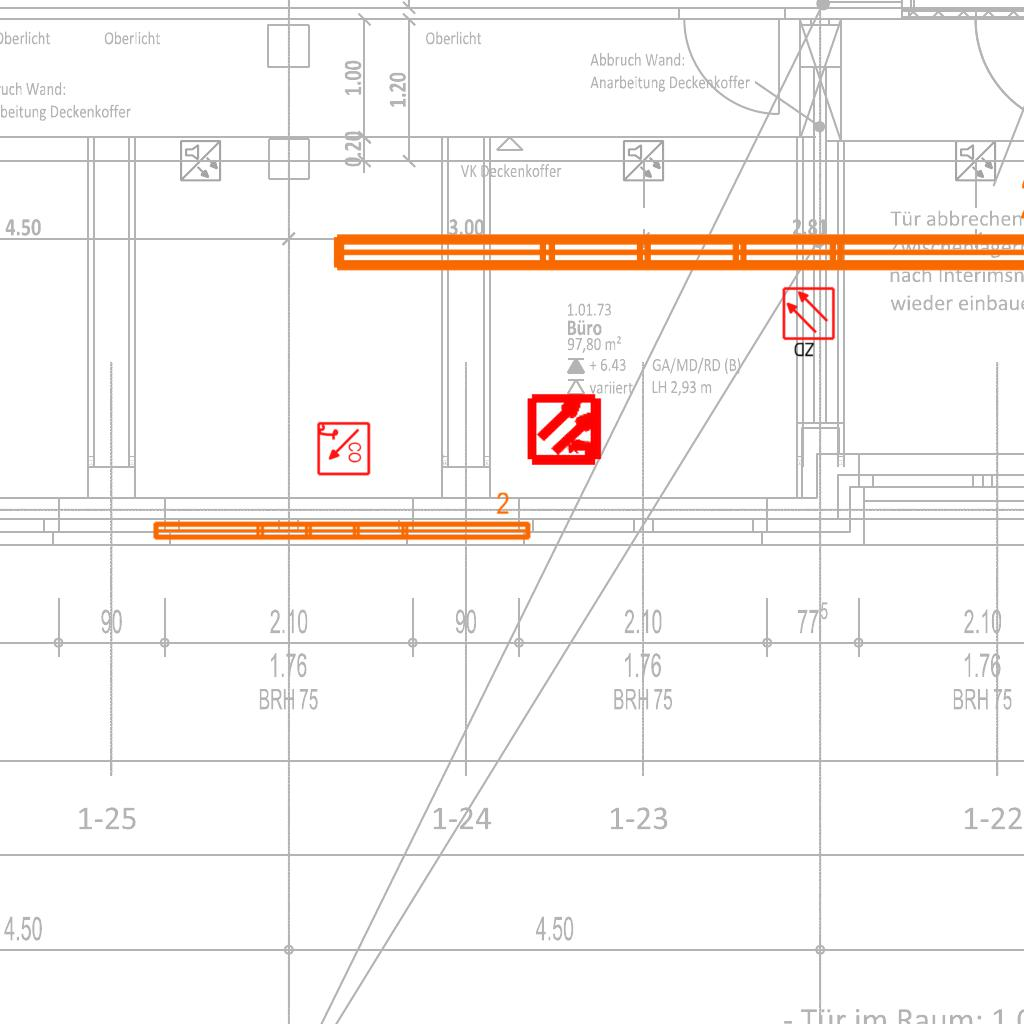Ambulanz_Pendelleuchte_LED: (323, 171, 1024, 283), (148, 490, 535, 546)
OT_Multisensormelder_(Kombination_RMO_WMD): (510, 373, 623, 486)
ROA_Rauchmelder_optisch_mit_Signalgeber_(Sockelsirene): (315, 421, 371, 477)
ZD_Melder_in_Zwischendecke_mit_Revisionsoeffnung_mind_40_x_40_cm: (781, 286, 838, 360)
